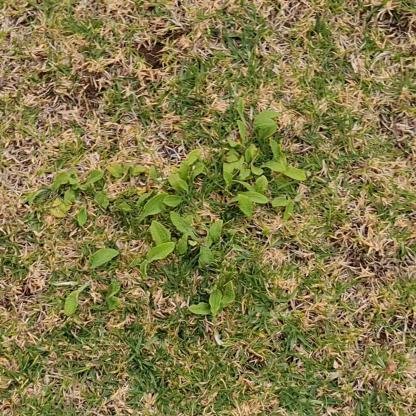Weeds: (29, 98, 307, 316)
